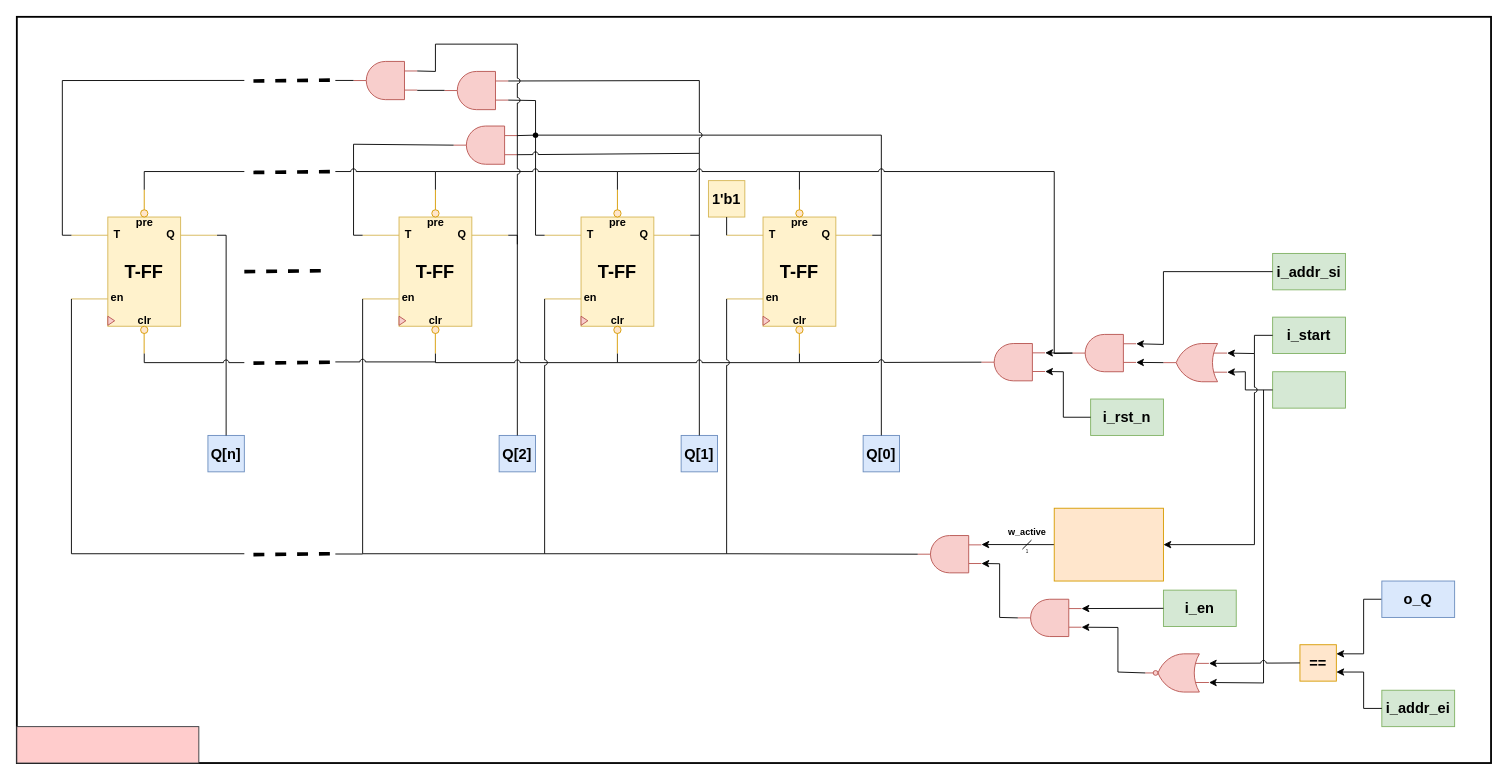
Image size: 1507x779. Some labels were removed from this diagram. The shapes that lost their labels are listed below. From the top down, each one's box as (x1, y1, x2, y2) in pixels, then its label:
(1272, 371, 1345, 408): o_done
(1053, 507, 1163, 581): Detect_Active
(16, 726, 199, 763): PACS_control_address
